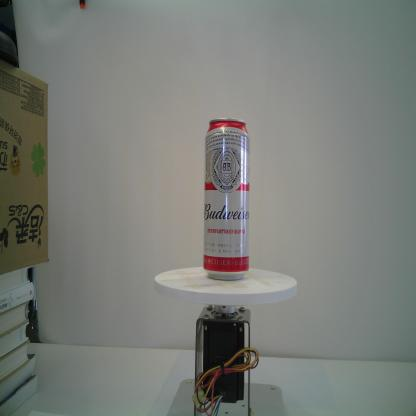Alcohol: (203, 118, 251, 282)
